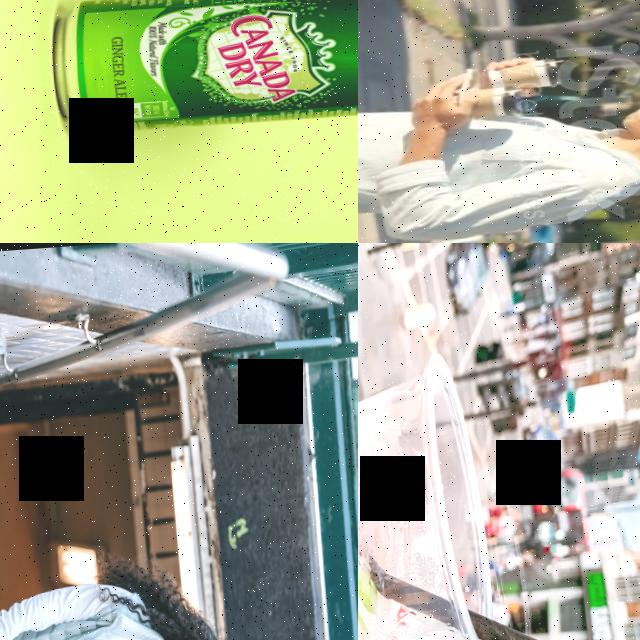can: (40, 0, 358, 141)
cup: (358, 344, 496, 640), (480, 54, 564, 96), (446, 86, 520, 123)
